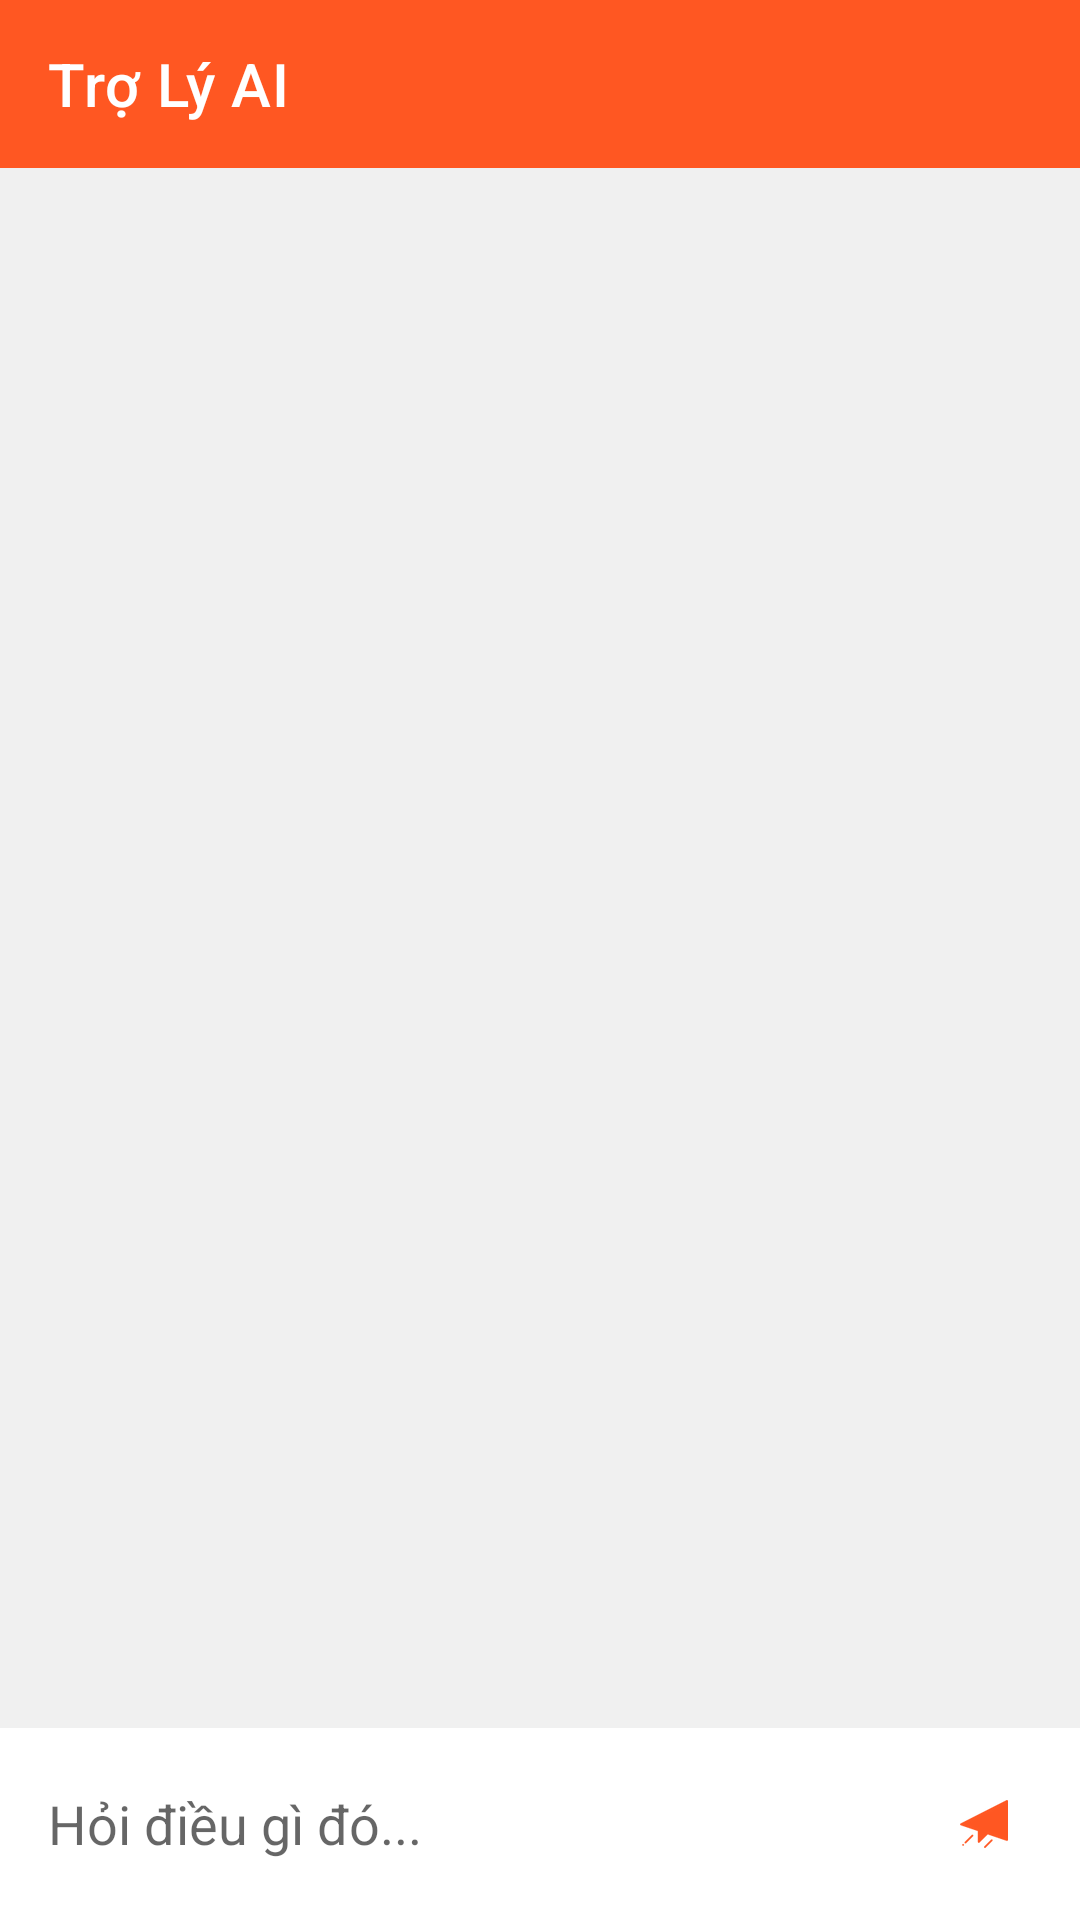

Icon click points for this 1080px x 1920px phone screenshot, format (x,y):
Gửi: (984,1824)
